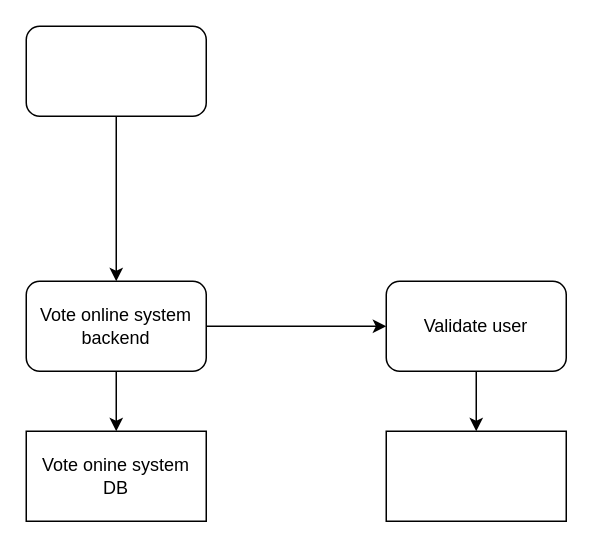
Image size: 593x548. Some labels were removed from this diagram. Here are the shapes that lost their labels. From the top down, the centre of each, then its label:
point 115,70: Vote online system frontend
point 475,475: Validate user DB
